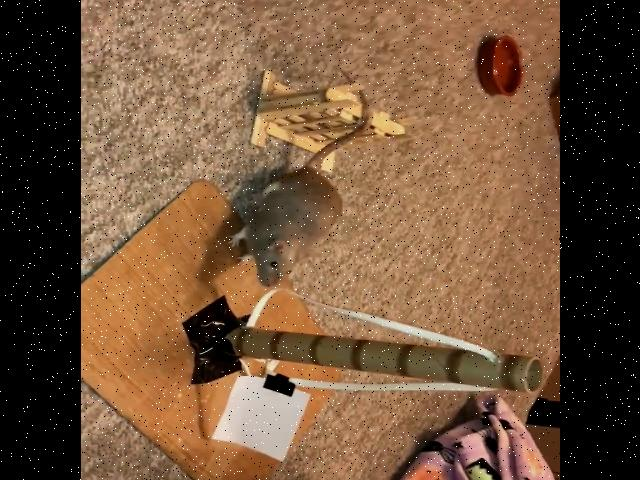Tikus: (224, 165, 346, 290)
